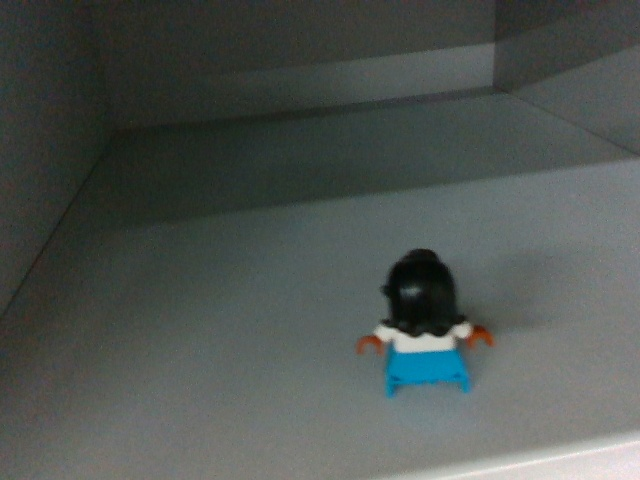people: (358, 243, 497, 400)
